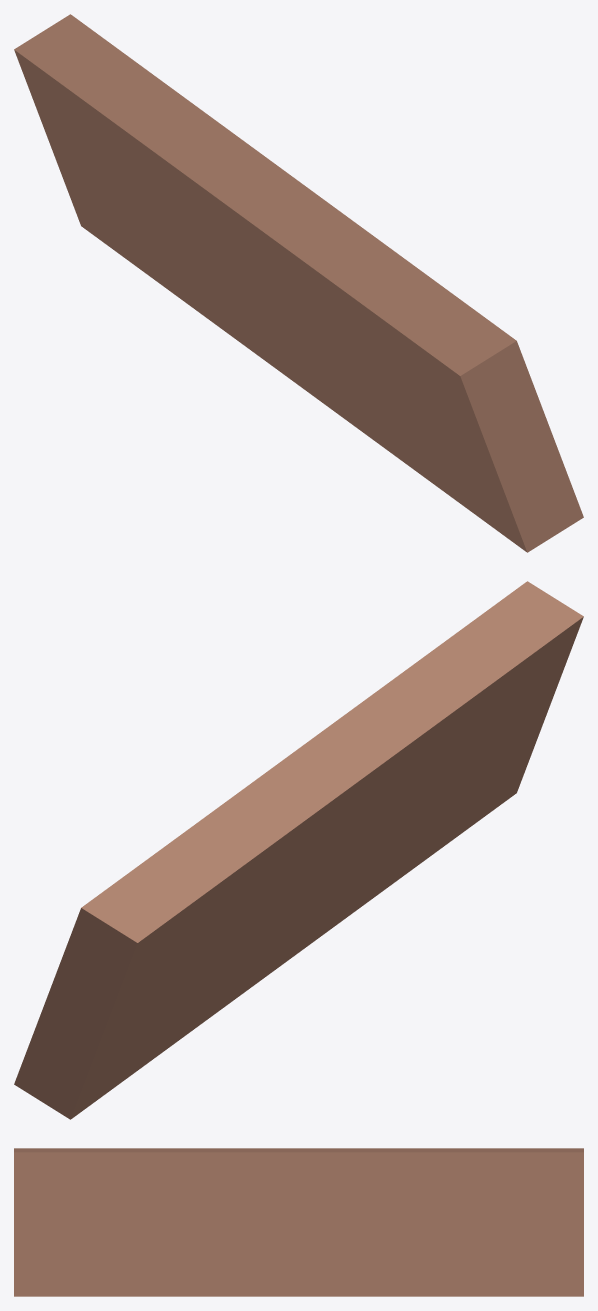
The model's file is Playground_Ladder_Step_FBX.fbx.
3 views of the same model, one above another, from view 1: azimuth 30°, elevation 25°; view 2: azimuth 150°, elevation 25°; view 3: azimuth 270°, elevation 25° (orthographic). The views are drawn at different scales.
Parts seen in each view (by area): view 1: Ladder Step; view 2: Ladder Step; view 3: Ladder Step.
Boxes of the visible parts, x1,y1,x2,y2 form: Ladder Step: (14, 14, 583, 552); Ladder Step: (14, 581, 583, 1119); Ladder Step: (14, 1148, 583, 1296).
Size of the model in its own units: 123 by 204 by 770.
